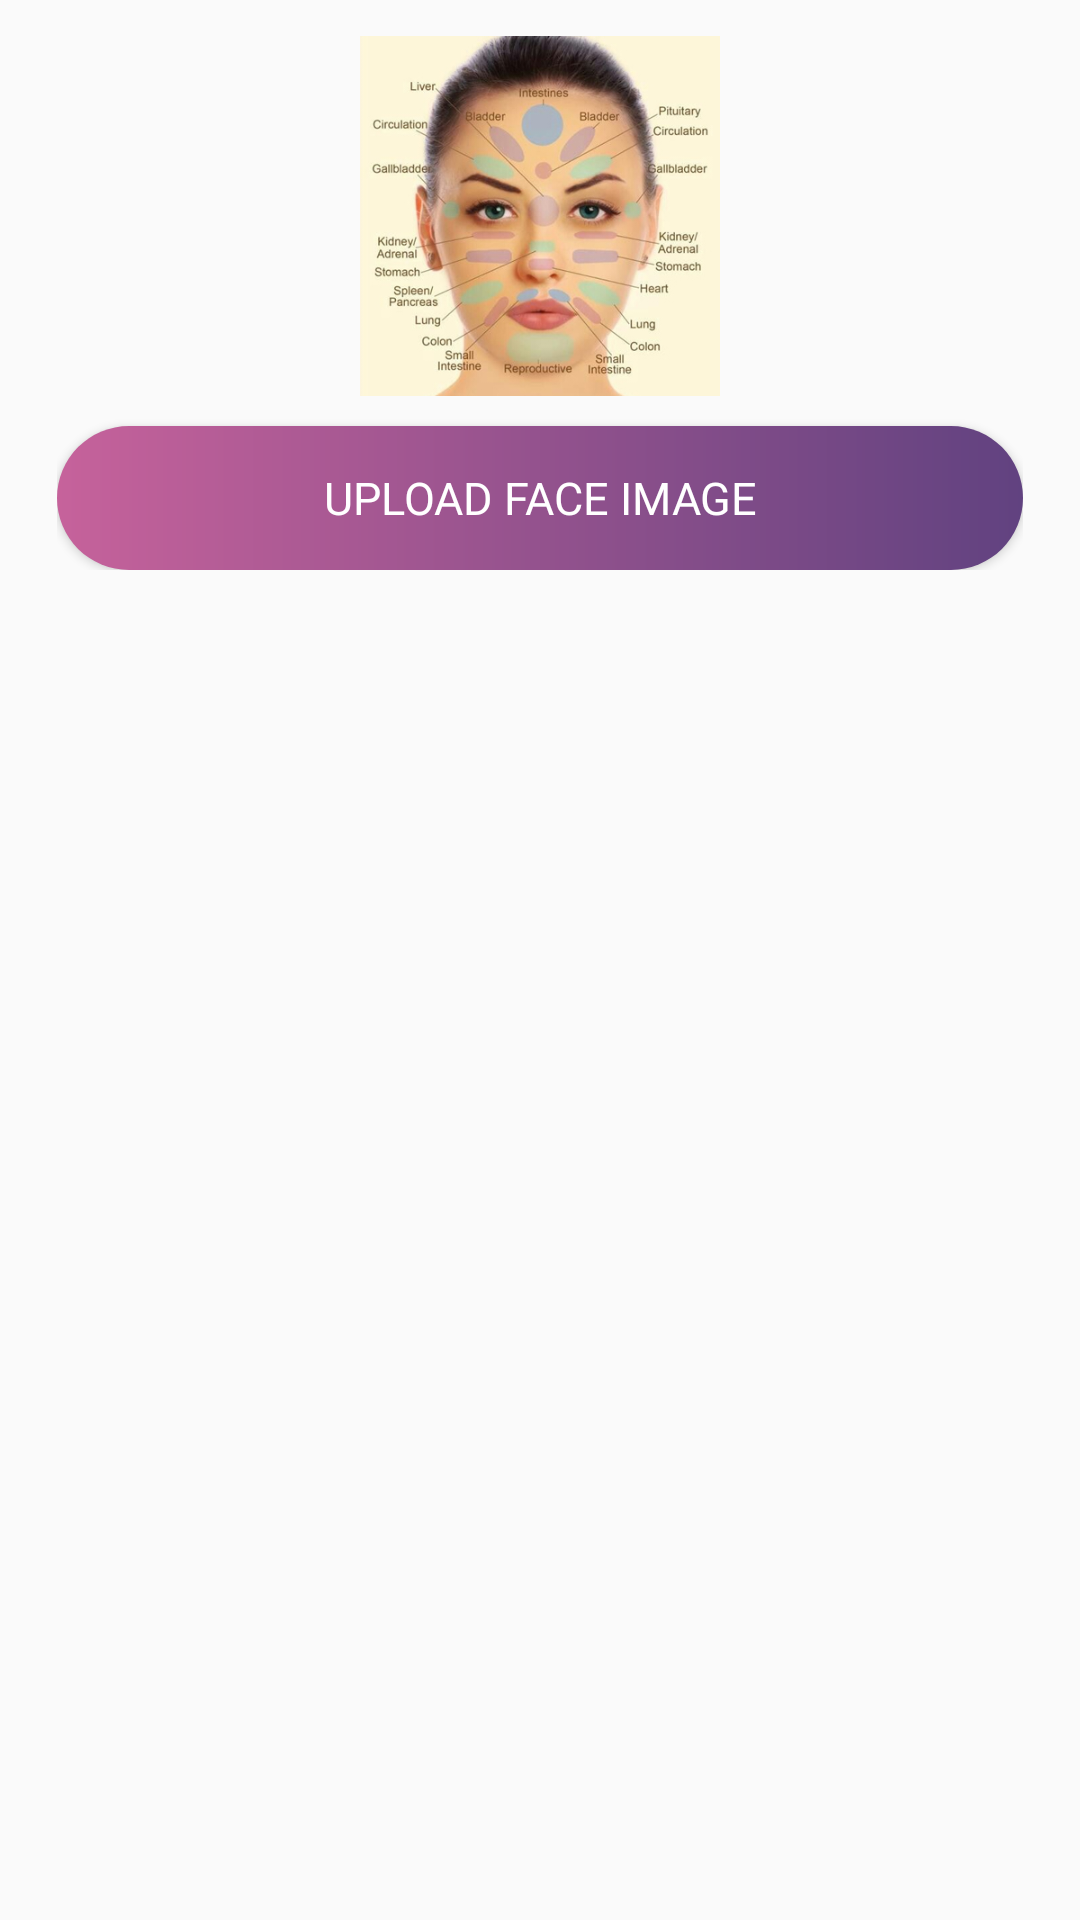

Screen size 1080x1920. Icon name, then its box in pixels as (x1=x1, y1=y1, x2=x2, y2=y2):
facereading: (x1=360, y1=36, x2=720, y2=396)
